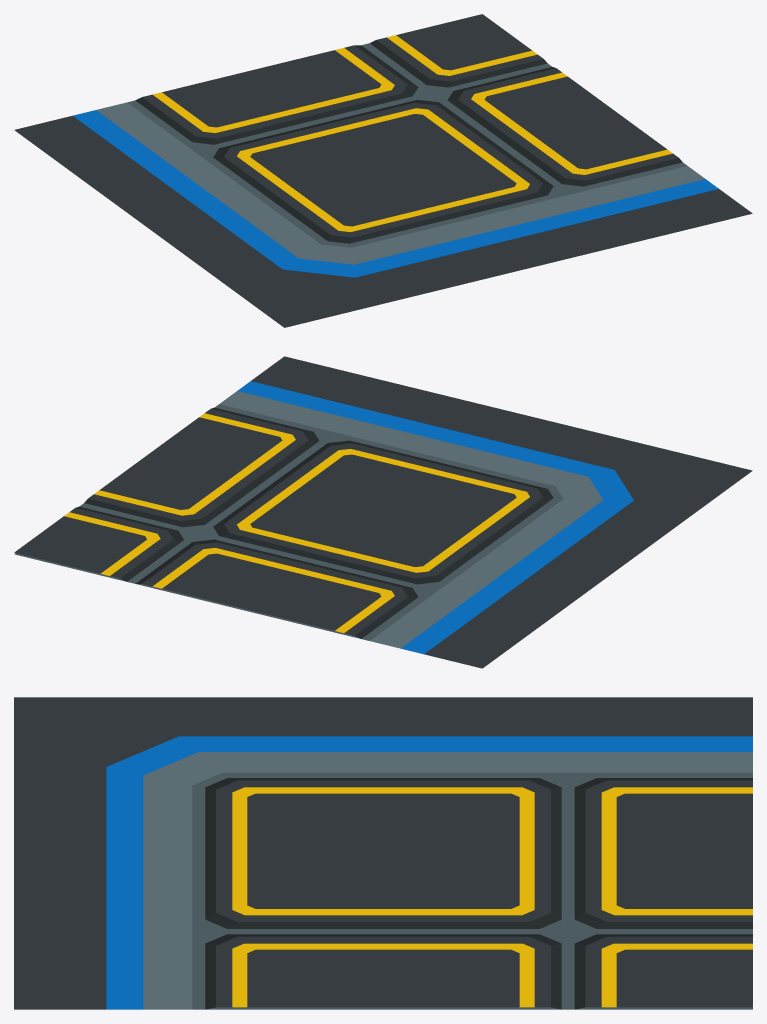
Rendered from Floor_type_C_028.glb.
The picture shows the model from 3 angles, top to bottom: view 1: azimuth 30°, elevation 25°; view 2: azimuth 150°, elevation 25°; view 3: azimuth 270°, elevation 25°; orthographic projection. The views are drawn at different scales.
Visible parts, largest first — view 1: Floor_type_C_028; view 2: Floor_type_C_028; view 3: Floor_type_C_028.
Boxes of the visible parts, x1=… form: Floor_type_C_028: x1=14, y1=14, x2=752, y2=327; Floor_type_C_028: x1=14, y1=356, x2=752, y2=668; Floor_type_C_028: x1=14, y1=697, x2=752, y2=1009.
Size of the model in its own units: 4 by 0.0134 by 4.
2 materials, 2 textured.
